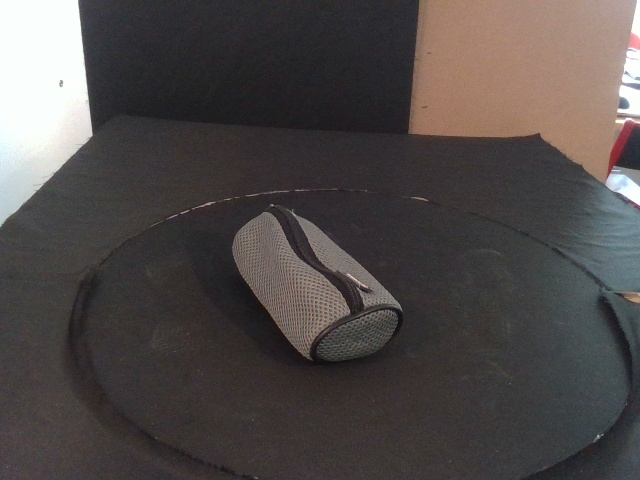pencil_case: (232, 205, 403, 366)
